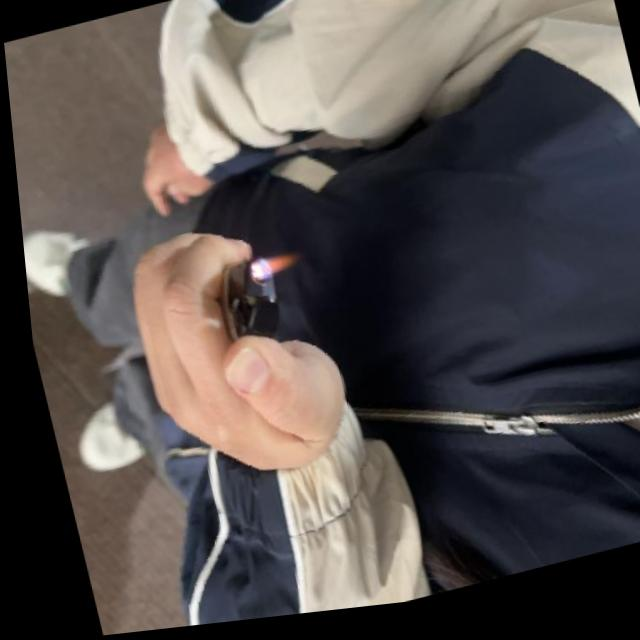Fire: (255, 251, 297, 283)
